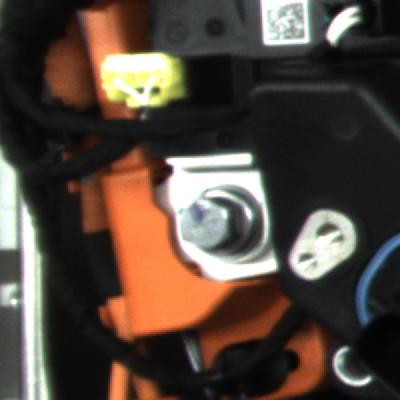nut_b: (174, 182, 268, 256)
